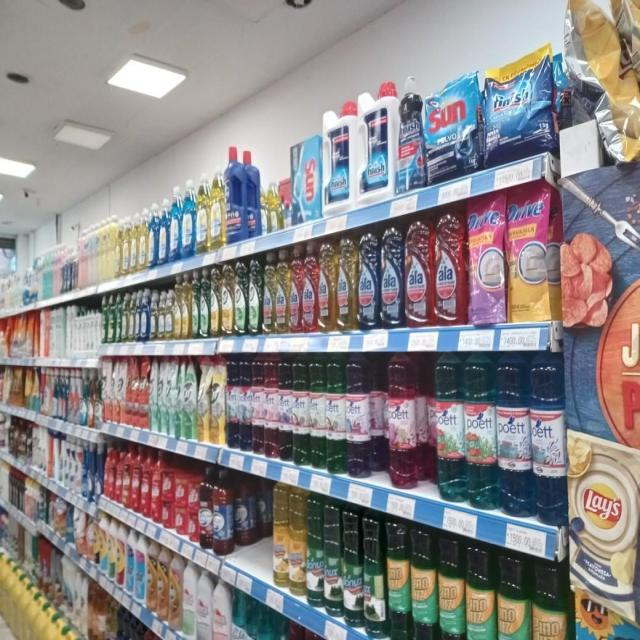ala_conc_amarillo: (337, 237, 357, 332), (318, 241, 336, 333), (276, 248, 289, 334), (262, 251, 275, 334)
ala_conc_azul: (379, 226, 404, 329), (358, 233, 379, 331)
ala_conc_rojo: (434, 210, 466, 327), (405, 218, 433, 328), (302, 242, 318, 334), (289, 244, 302, 334)
cif_conc_bot_amarilla: (221, 263, 234, 337), (210, 266, 221, 337)
cif_conc_botella_verde: (248, 256, 262, 336), (234, 259, 247, 336), (200, 268, 209, 338), (191, 270, 200, 339)
cif_conc_sachet_amarillo: (620, 0, 639, 94)
magistral_con_amarillo: (210, 163, 224, 251), (196, 171, 210, 254), (269, 179, 281, 232), (130, 210, 138, 274), (260, 177, 268, 235)
magistral_con_azul: (182, 176, 195, 258), (170, 183, 181, 262), (140, 288, 149, 342)
